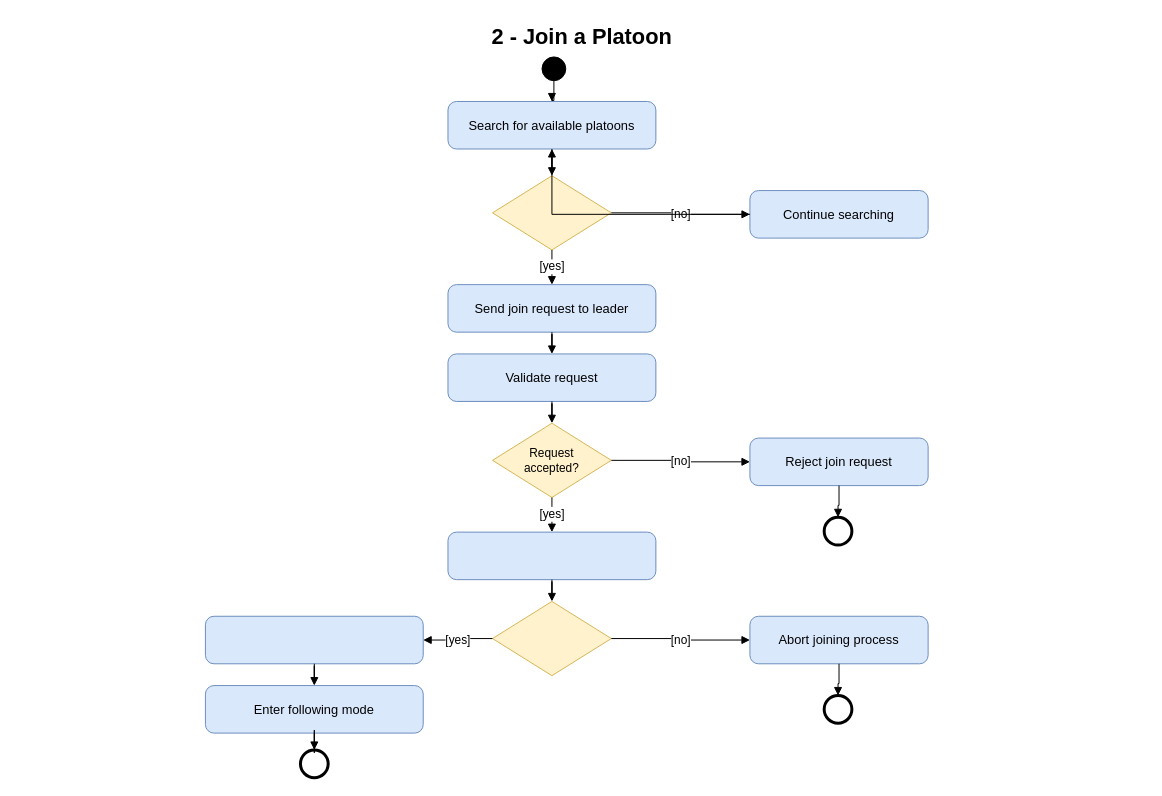
Some shapes in this 1162 by 796 pixel diagram are drawn without their labels. Each missing label, with the box of its shape:
Platoon found?: (492, 175, 611, 250)
Register truck and update membership: (204, 615, 423, 664)
Synchronization successful?: (492, 600, 611, 676)
Synchronize with platoon: (447, 531, 656, 580)
